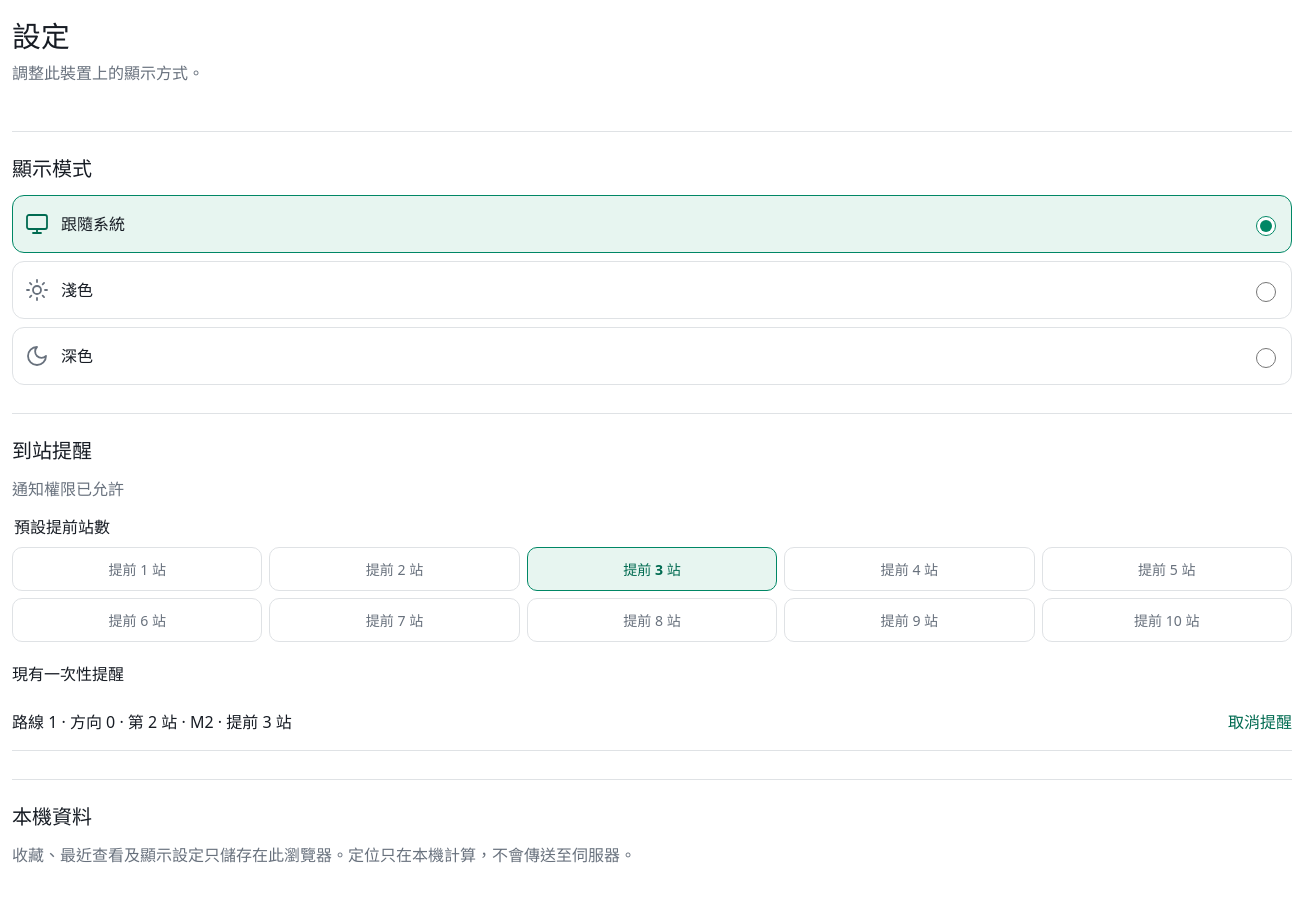
SettingsPage › lists active reminders and cancels them through the push client
Expected: the text "路線 1 · 方向 0 · 第 2 站 · M2 · 提前 3 站" is shown, [12, 710, 292, 734]
Step 1. Click the button "取消提醒" → [1260, 722], box [1228, 700, 1292, 744]
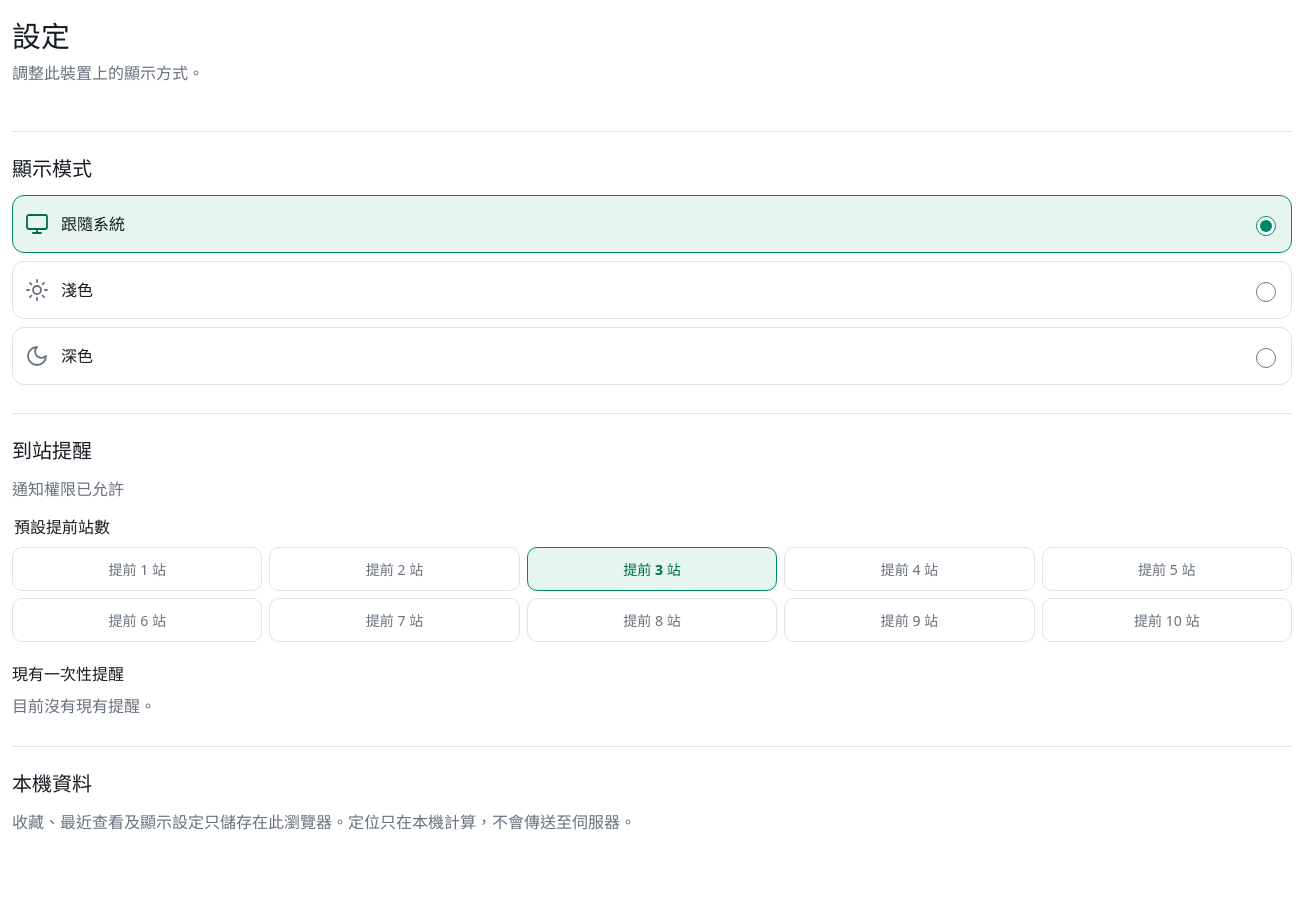
Now the text "路線 1 · 方向 0 · 第 2 站 · M2 · 提前 3 站" is gone
